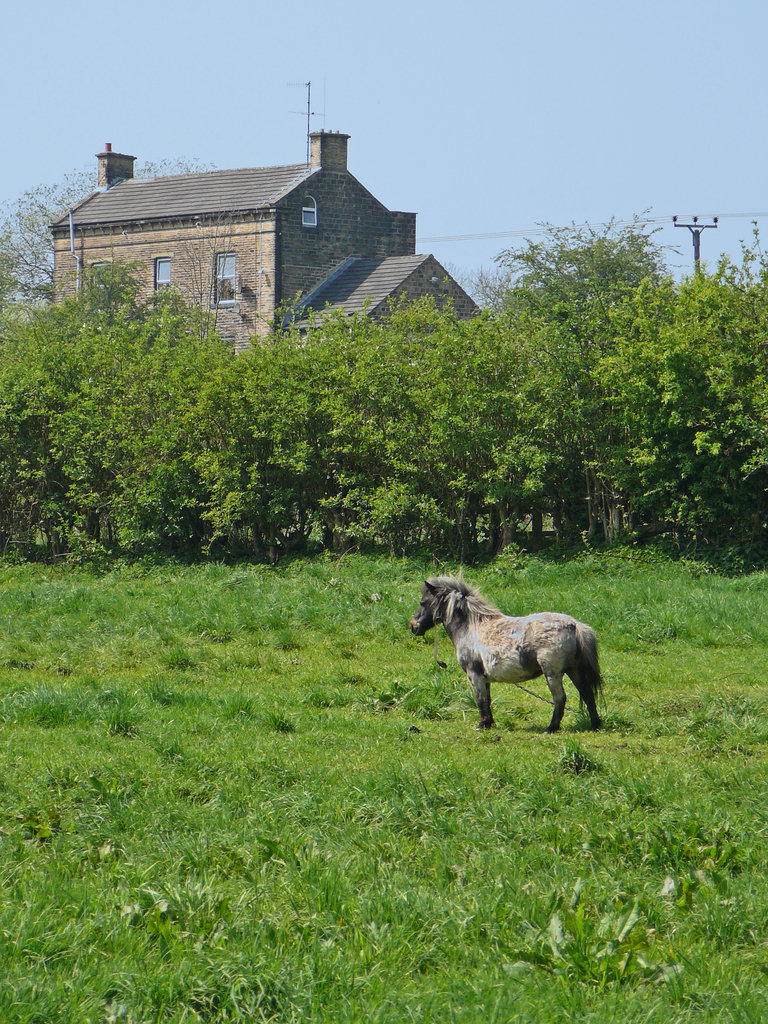horse: (408, 576, 611, 736)
